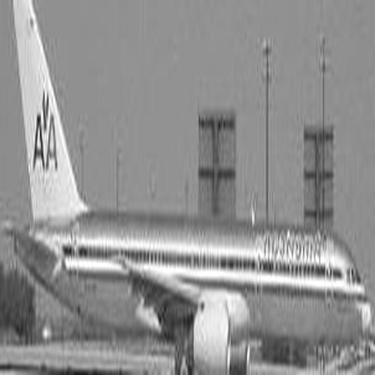airplane: (3, 2, 370, 369)
